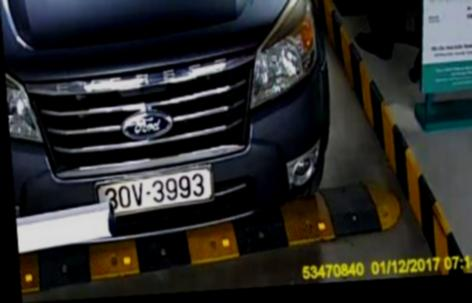License_Plate: (88, 169, 221, 214)
